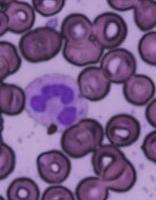N: (23, 72, 88, 132)
